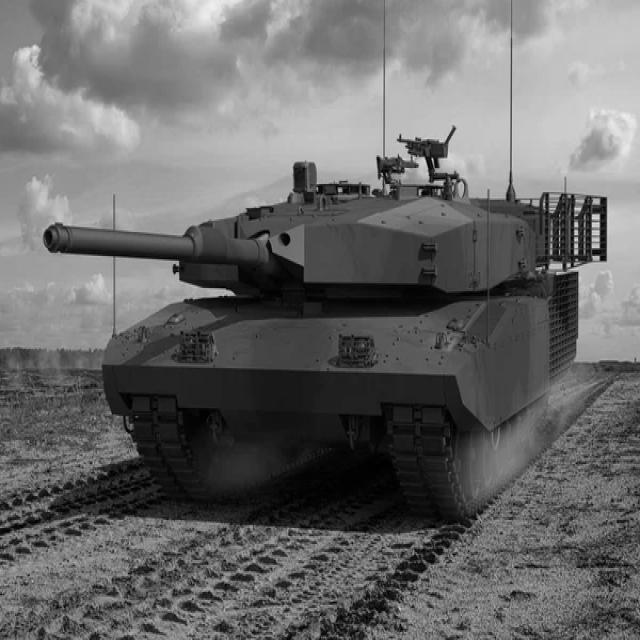Tank: (35, 104, 602, 518)
